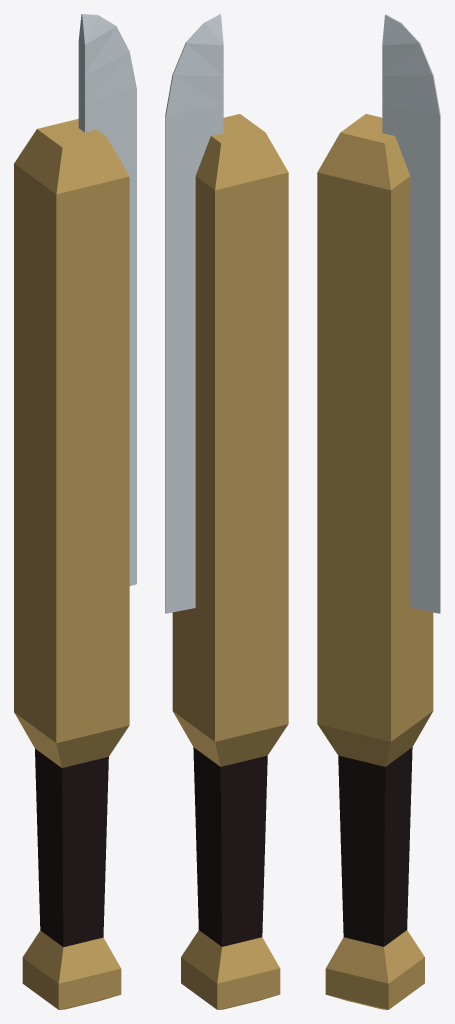
Rendered from Machete Bat.dae.
The picture shows the model from 3 angles, left to right: view 1: azimuth 30°, elevation 25°; view 2: azimuth 210°, elevation 25°; view 3: azimuth 330°, elevation 25°; orthographic projection.
Visible parts, largest first — view 1: Cube.008; view 2: Cube.008; view 3: Cube.008.
Part boxes in pixels (x1,y1,x2,y2): Cube.008: (14,14,136,1009); Cube.008: (165,14,288,1009); Cube.008: (317,14,440,1009).
Size of the model in its own units: 0.114 by 0.0825 by 1.06.
